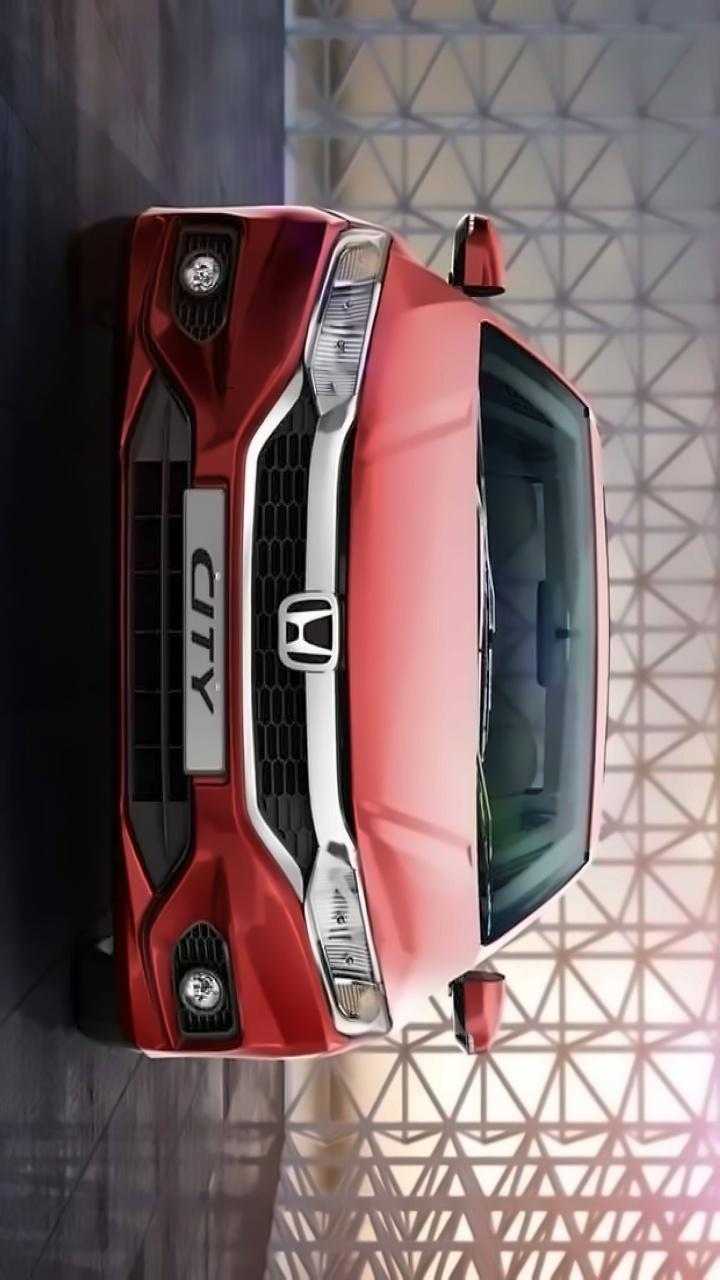Car hood: (338, 244, 486, 1022)
Front bumper: (100, 202, 351, 1070)
Headlight - -L-: (298, 837, 401, 1045)
Headlight - -R-: (304, 218, 392, 426)
Side mirror - -L-: (455, 953, 502, 1063)
Side mirror - -R-: (440, 206, 506, 305)
